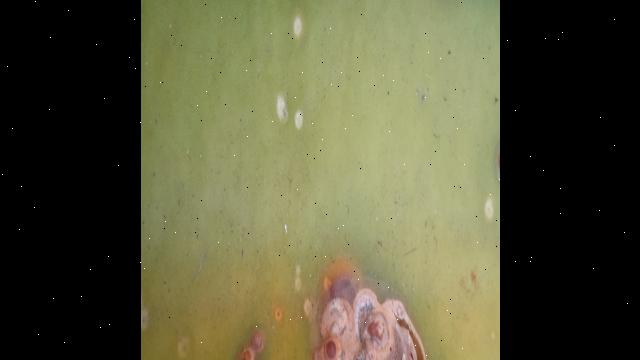stemcanker: (225, 304, 287, 360)
